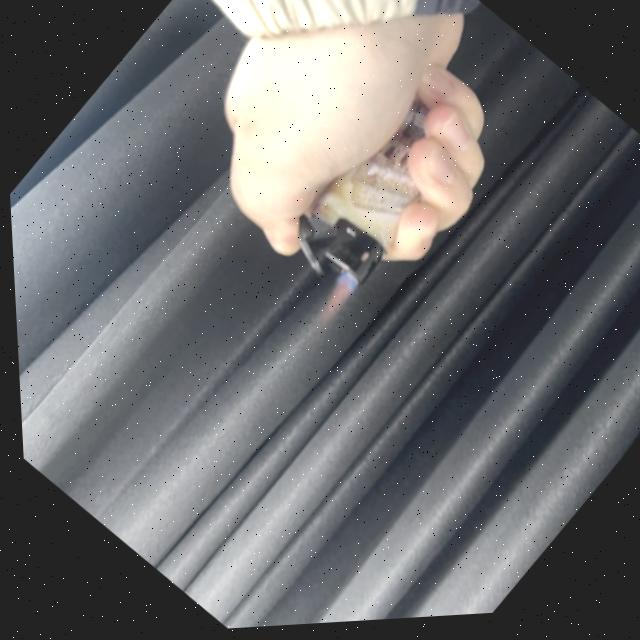Fire: (300, 274, 362, 337)
